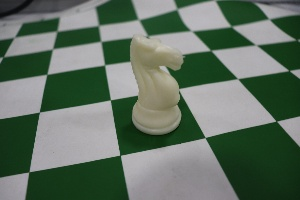white_horse: (123, 25, 191, 143)
